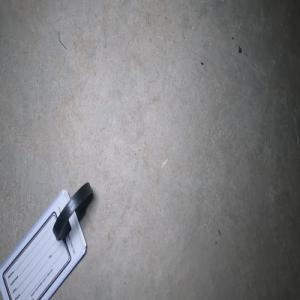LuggageTag: (0, 180, 94, 300)
